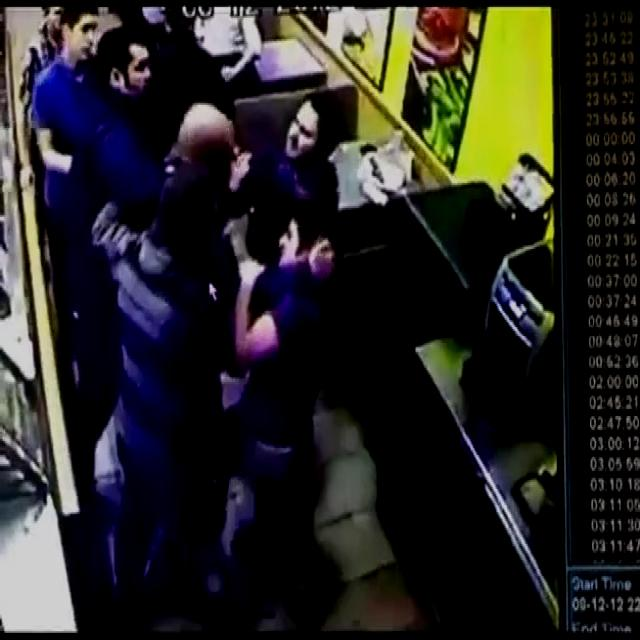fight: (142, 90, 364, 465)
